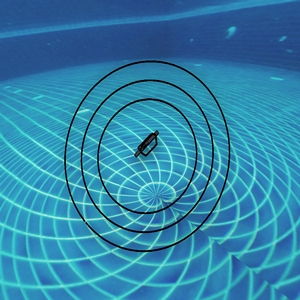circle: (61, 52, 228, 256)
